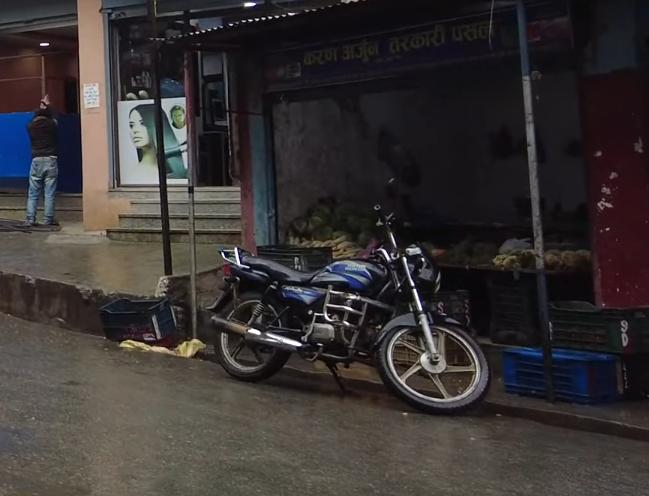bike: (207, 201, 496, 424)
